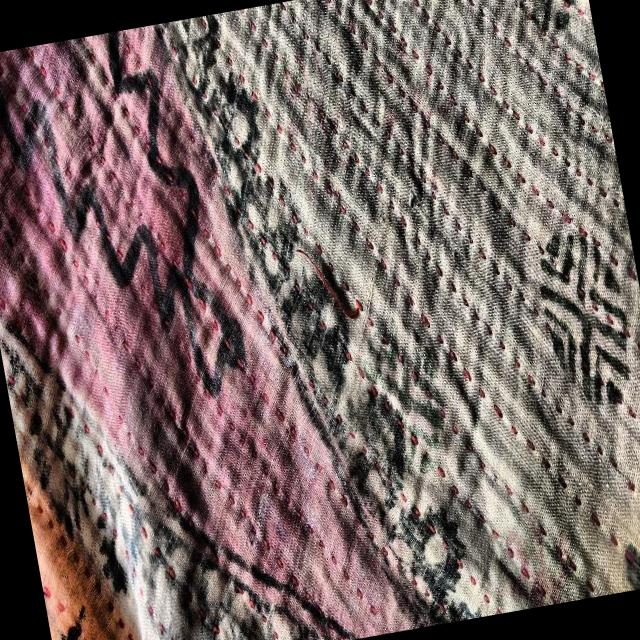gray stitch: (294, 236, 364, 328)
